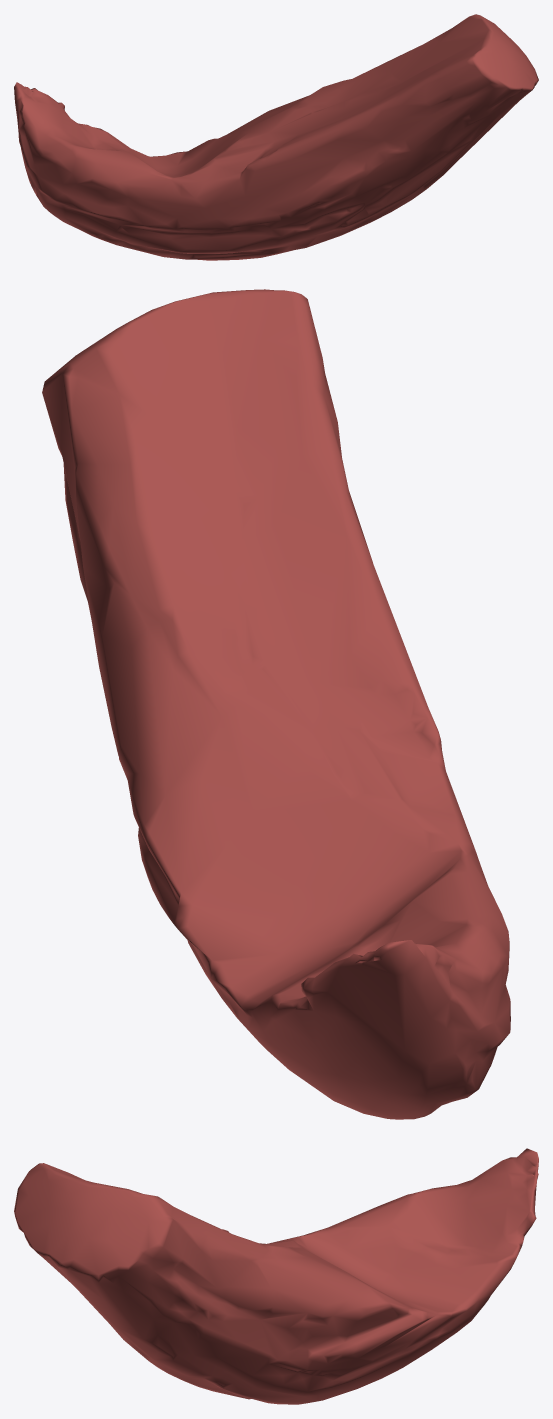
The model's file is FMA49024.glb.
3 renders of one model, top to bottom at view 1: azimuth 30°, elevation 25°; view 2: azimuth 150°, elevation 25°; view 3: azimuth 270°, elevation 25°, orthographic. The views are drawn at different scales.
Parts seen in each view (by area): view 1: FMA49024; view 2: FMA49024; view 3: FMA49024.
Part boxes in pixels (x1,y1,x2,y2): FMA49024: (14, 14, 538, 260); FMA49024: (42, 289, 510, 1119); FMA49024: (14, 1148, 538, 1404).
Size of the model in its own units: 0.0205 by 0.0142 by 0.0217.
